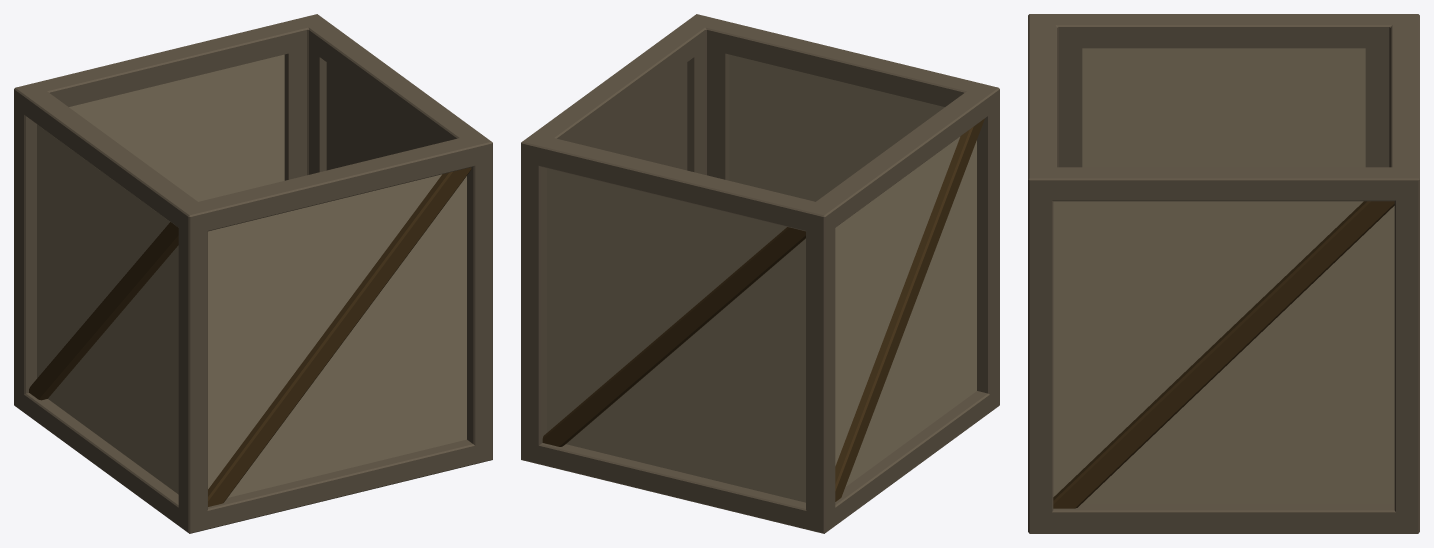
The model's file is caja_lowpoly.fbx.
The picture shows the model from 3 angles, left to right: view 1: azimuth 30°, elevation 25°; view 2: azimuth 150°, elevation 25°; view 3: azimuth 270°, elevation 25°; orthographic projection. The views are drawn at different scales.
Visible parts, largest first — view 1: Cube.013, Cube.016, Cube.015; view 2: Cube.013, Cube.017, Cube.015; view 3: Cube.013, Cube.014.
Boxes of the visible parts, box(x1,y1,x2,y2) form: Cube.013: box(14, 14, 492, 533); Cube.016: box(208, 167, 471, 506); Cube.015: box(29, 222, 178, 400); Cube.013: box(521, 14, 999, 533); Cube.017: box(542, 227, 805, 446); Cube.015: box(835, 118, 984, 501); Cube.013: box(1028, 14, 1419, 533); Cube.014: box(1053, 201, 1394, 508).
Size of the model in its own units: 985 by 985 by 985.
